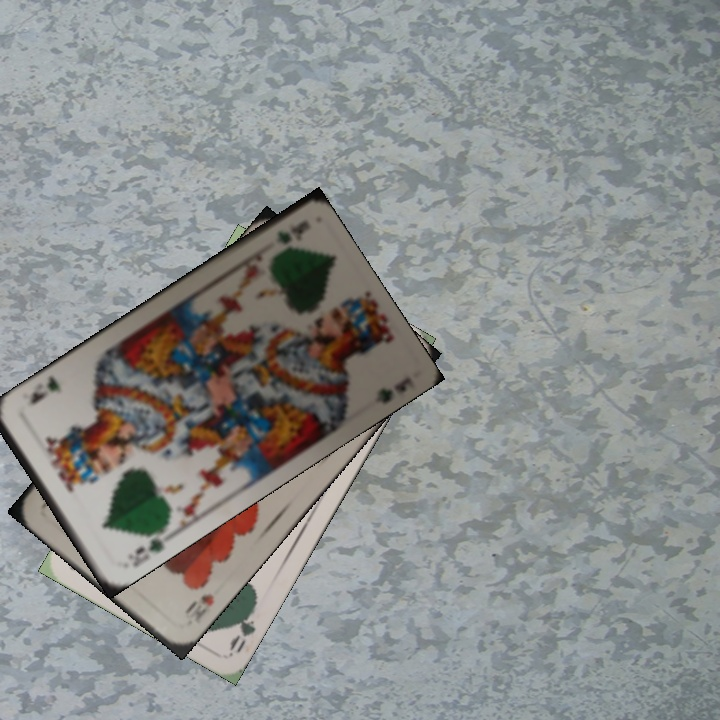GK: (128, 527, 167, 570), (271, 216, 313, 247)
GO: (225, 599, 260, 653)
H10: (180, 589, 217, 623)
